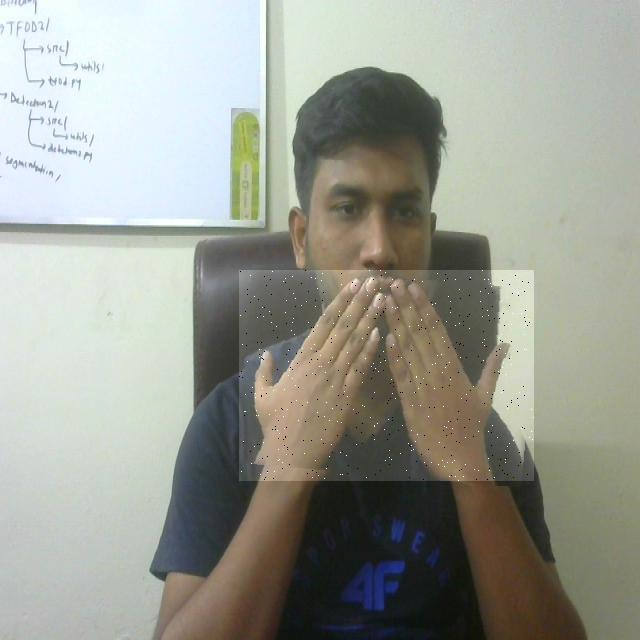Thanks: (239, 270, 534, 481)
